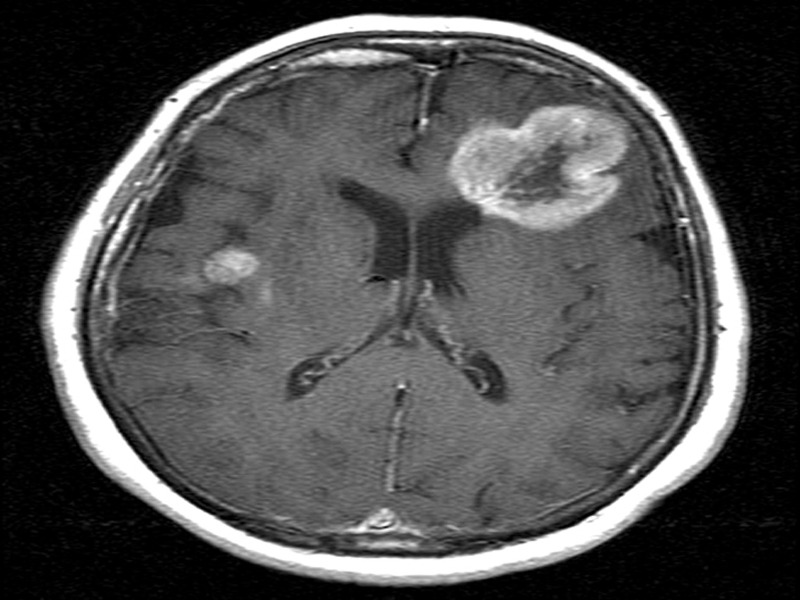tumor: (442, 96, 636, 237)
